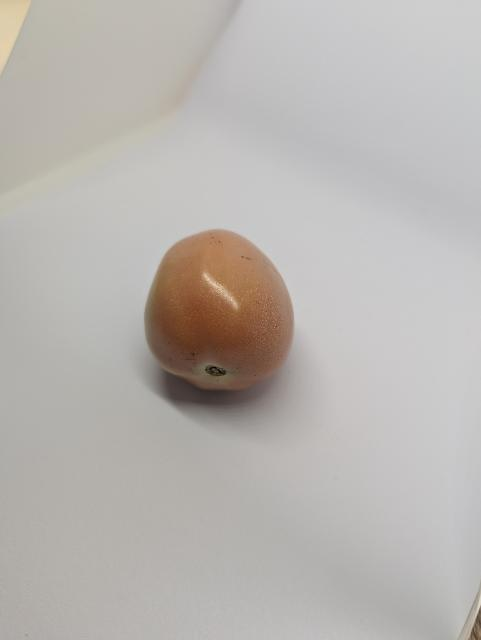turning: (142, 221, 296, 399)
